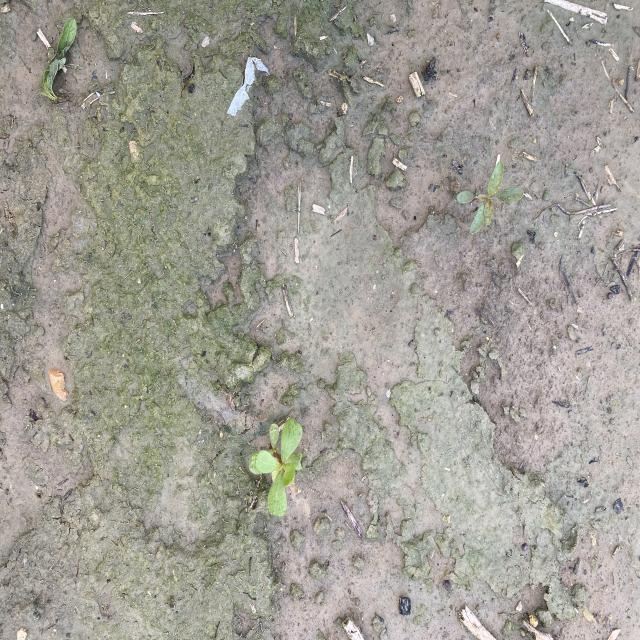Purslane: (247, 419, 307, 520)
Waterhemp: (454, 160, 524, 236)
